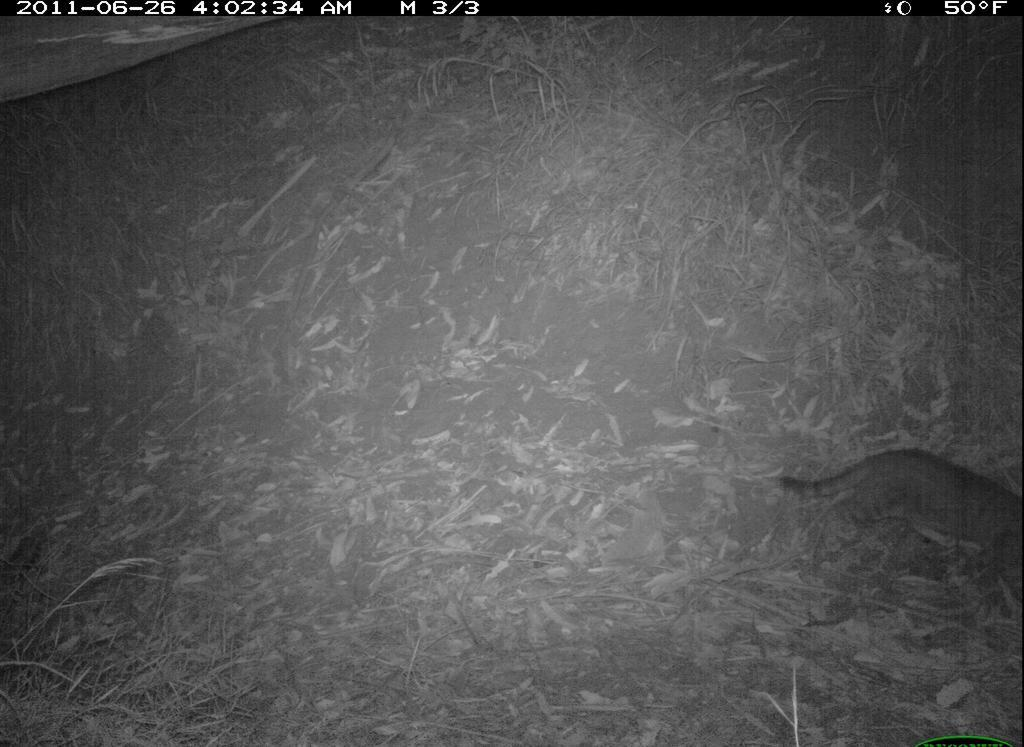cat: (776, 443, 1022, 589)
